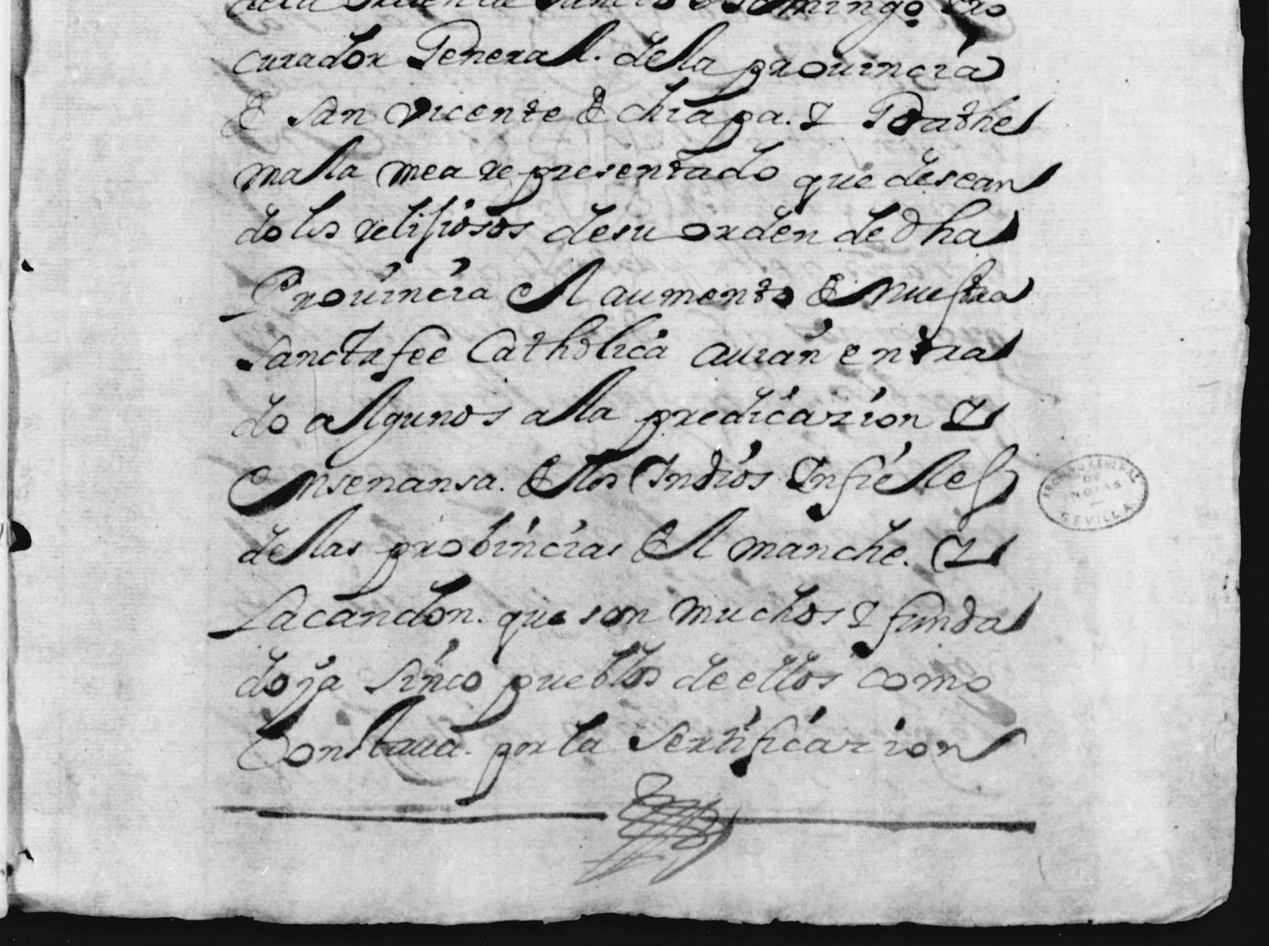lacandon: (207, 573, 473, 639)
